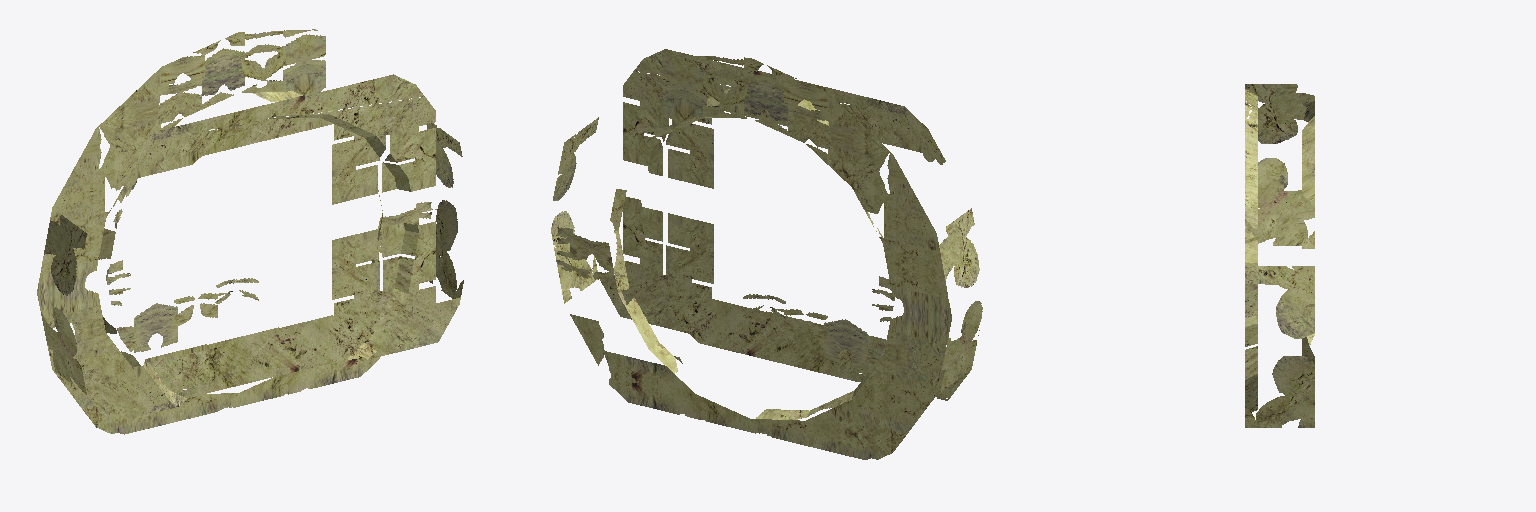
3 renders of one model, left to right at view 1: azimuth 30°, elevation 25°; view 2: azimuth 150°, elevation 25°; view 3: azimuth 270°, elevation 25°, orthographic.
Parts seen in each view (by area): view 1: moneda:pCylinder1; view 2: moneda:pCylinder1; view 3: moneda:pCylinder1.
Part boxes in pixels (left/top/right/bottom): moneda:pCylinder1: left=37, top=29, right=463, bottom=434; moneda:pCylinder1: left=551, top=49, right=982, bottom=459; moneda:pCylinder1: left=1245, top=84, right=1314, bottom=427.
Size of the model in its own units: 0.4887 by 0.4887 by 0.0733.
1 materials, 1 textured.